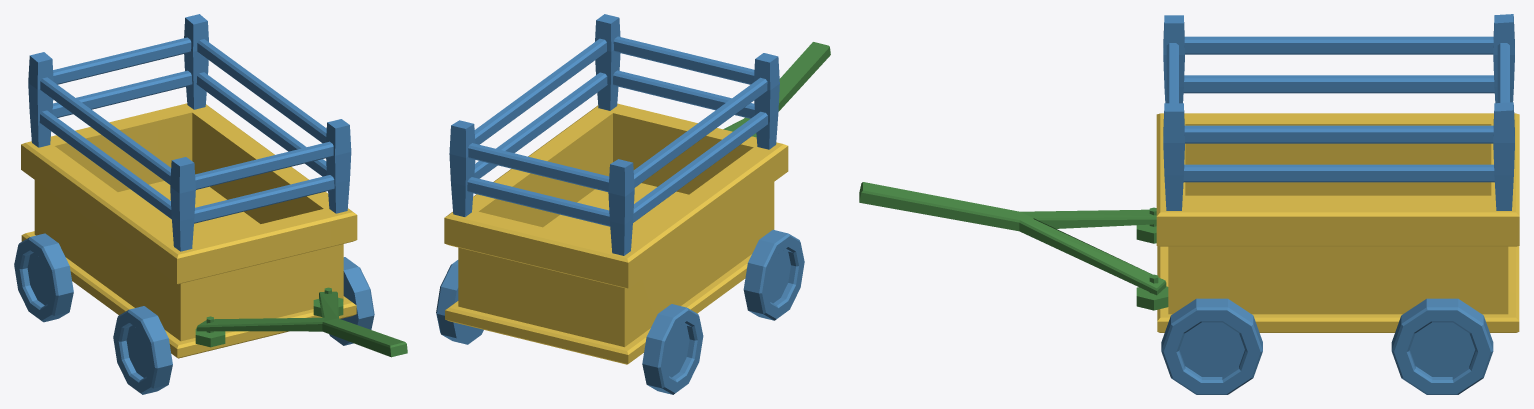
The model's file is cart_a_966.gltf.
The picture shows the model from 3 angles, left to right: view 1: azimuth 30°, elevation 25°; view 2: azimuth 150°, elevation 25°; view 3: azimuth 270°, elevation 25°; orthographic projection. The views are drawn at different scales.
Visible parts, largest first — view 1: body, wheel_2, wheel_5, wheel_4, wheel_1, wheel_9; view 2: body, wheel_5, wheel_2, wheel_4, wheel_1, wheel_6; view 3: body, wheel_11, wheel_8, wheel_7, wheel_10.
Part boxes in pixels (x1,y1,x2,y2): body: (18, 14, 407, 394); wheel_2: (113, 312, 154, 393); wheel_5: (14, 239, 55, 320); wheel_4: (27, 253, 50, 305); wheel_1: (126, 325, 149, 377); wheel_9: (329, 271, 358, 345); body: (436, 14, 830, 394); wheel_5: (660, 310, 703, 393); wheel_2: (762, 236, 804, 318); wheel_4: (666, 324, 689, 377); wheel_1: (767, 249, 790, 303); wheel_6: (453, 288, 483, 344); body: (859, 14, 1519, 394); wheel_11: (1163, 310, 1260, 393); wheel_8: (1394, 310, 1490, 393); wheel_7: (1409, 322, 1475, 376); wheel_10: (1179, 322, 1244, 376).
Bounding box in the file's own units: 0.607 × 0.6175 × 1.36.
1 material, 1 textured.
